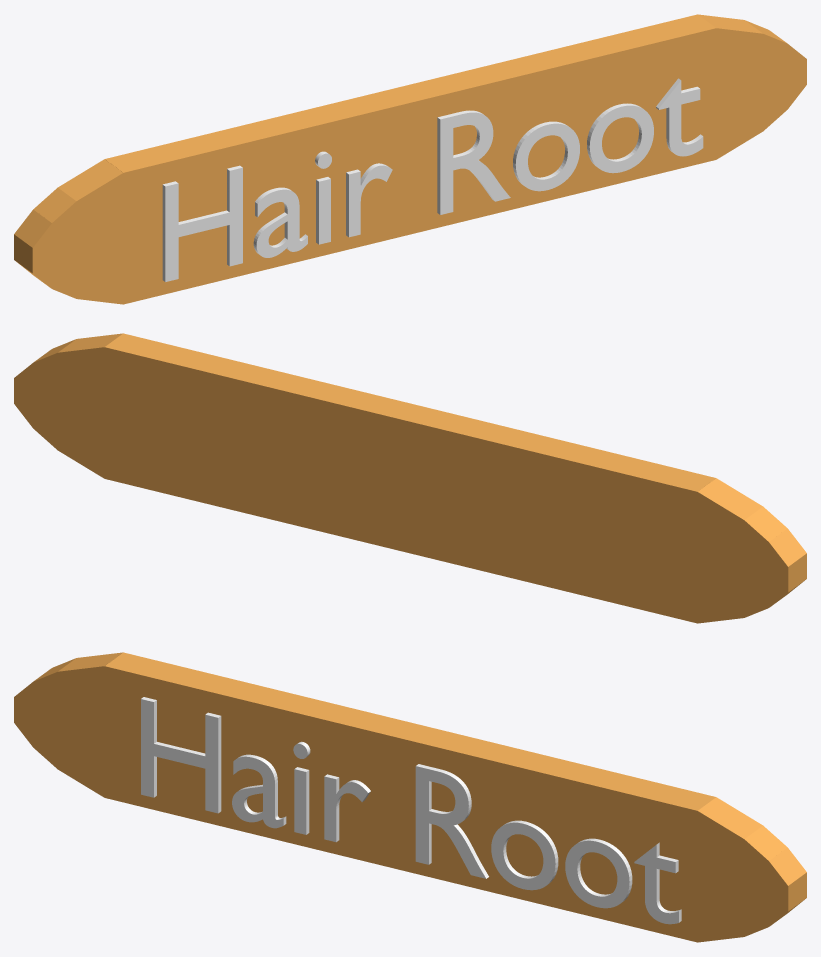
Rendered from txtHairRoot.fbx.
The picture shows the model from 3 angles, top to bottom: view 1: azimuth 30°, elevation 25°; view 2: azimuth 150°, elevation 25°; view 3: azimuth 330°, elevation 25°; orthographic projection.
Visible parts, largest first — view 1: TagContainer.022, Text.022; view 2: TagContainer.022; view 3: TagContainer.022, Text.022.
Boxes of the visible parts, x1,y1,x2,y2 form: TagContainer.022: [14, 14, 806, 304]; Text.022: [162, 78, 703, 281]; TagContainer.022: [14, 333, 806, 623]; TagContainer.022: [14, 652, 806, 942]; Text.022: [141, 697, 681, 924].
Size of the model in its own units: 178 by 28.89 by 8.61.
